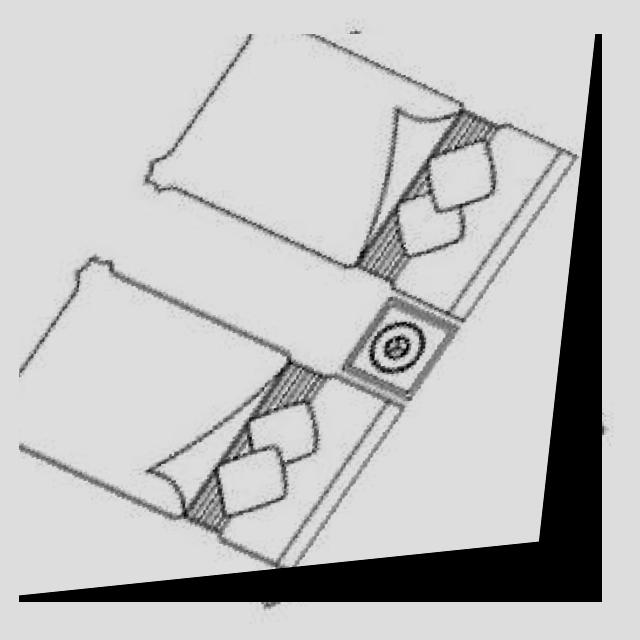bed: (19, 34, 602, 602)
